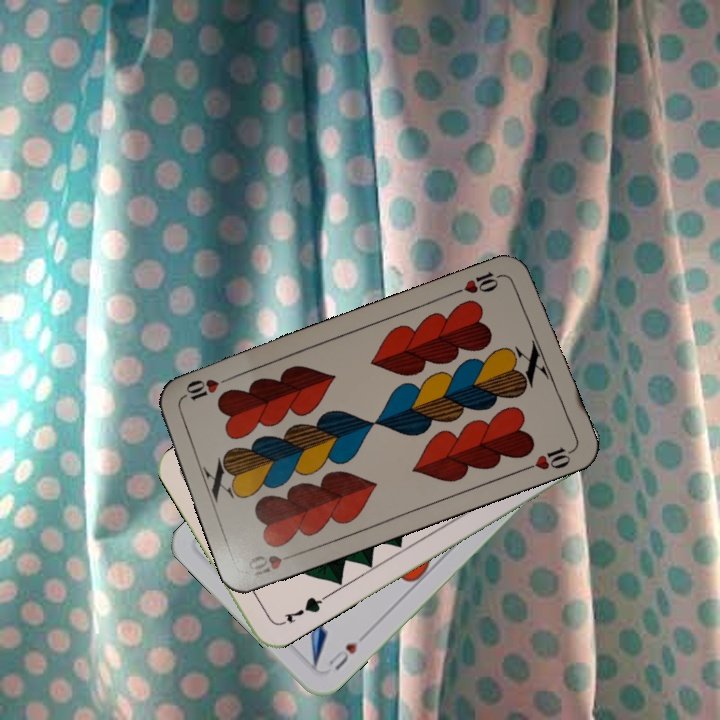G7: (275, 592, 329, 628)
H10: (243, 548, 302, 581), (451, 267, 508, 297)
HU: (321, 637, 361, 673)
